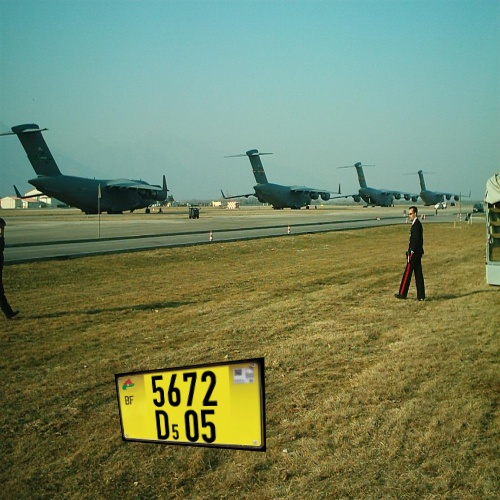plate: (108, 343, 279, 456)
